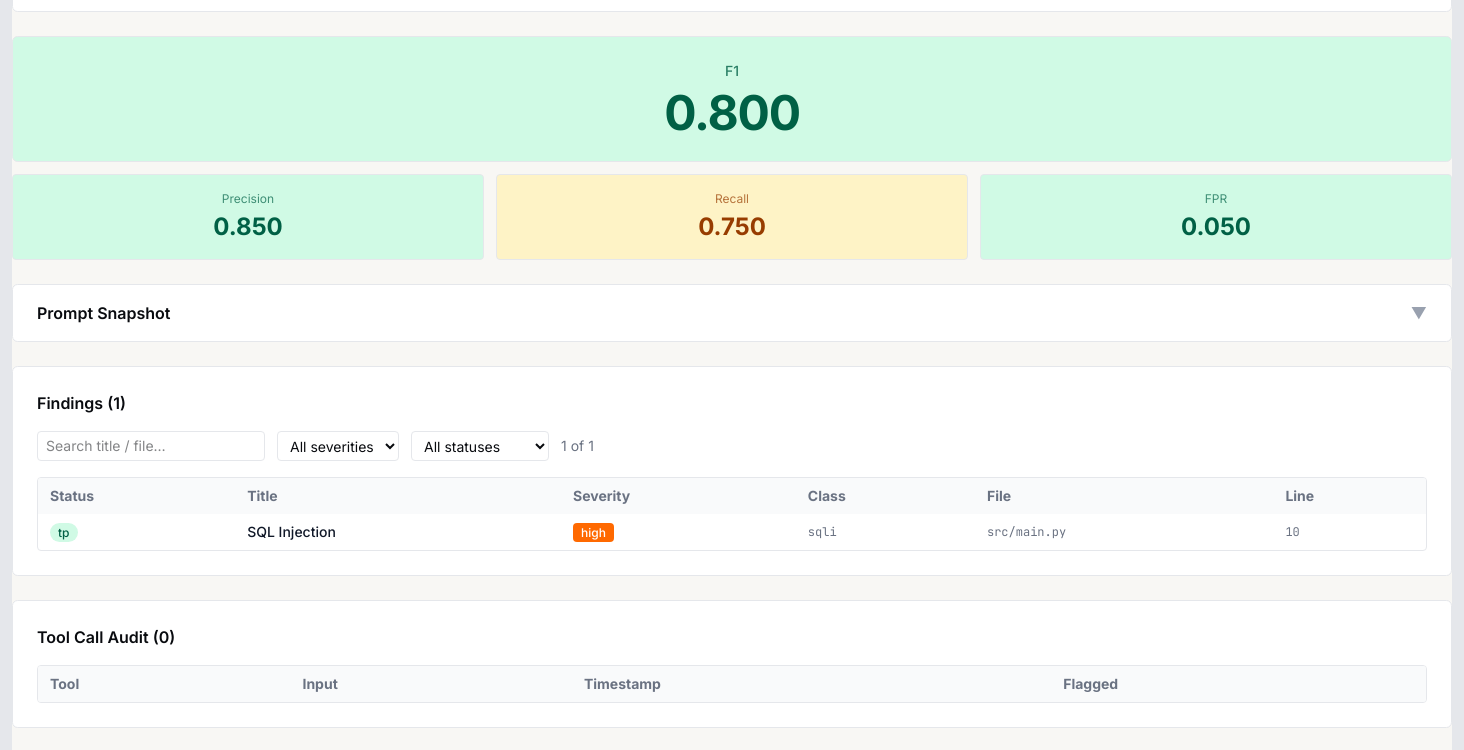
it: RunDetail — findings table › expands finding row to show description on click
(page scrolled)
Click the text "SQL Injection": (292, 532) x1=235 y1=514 x2=561 y2=550
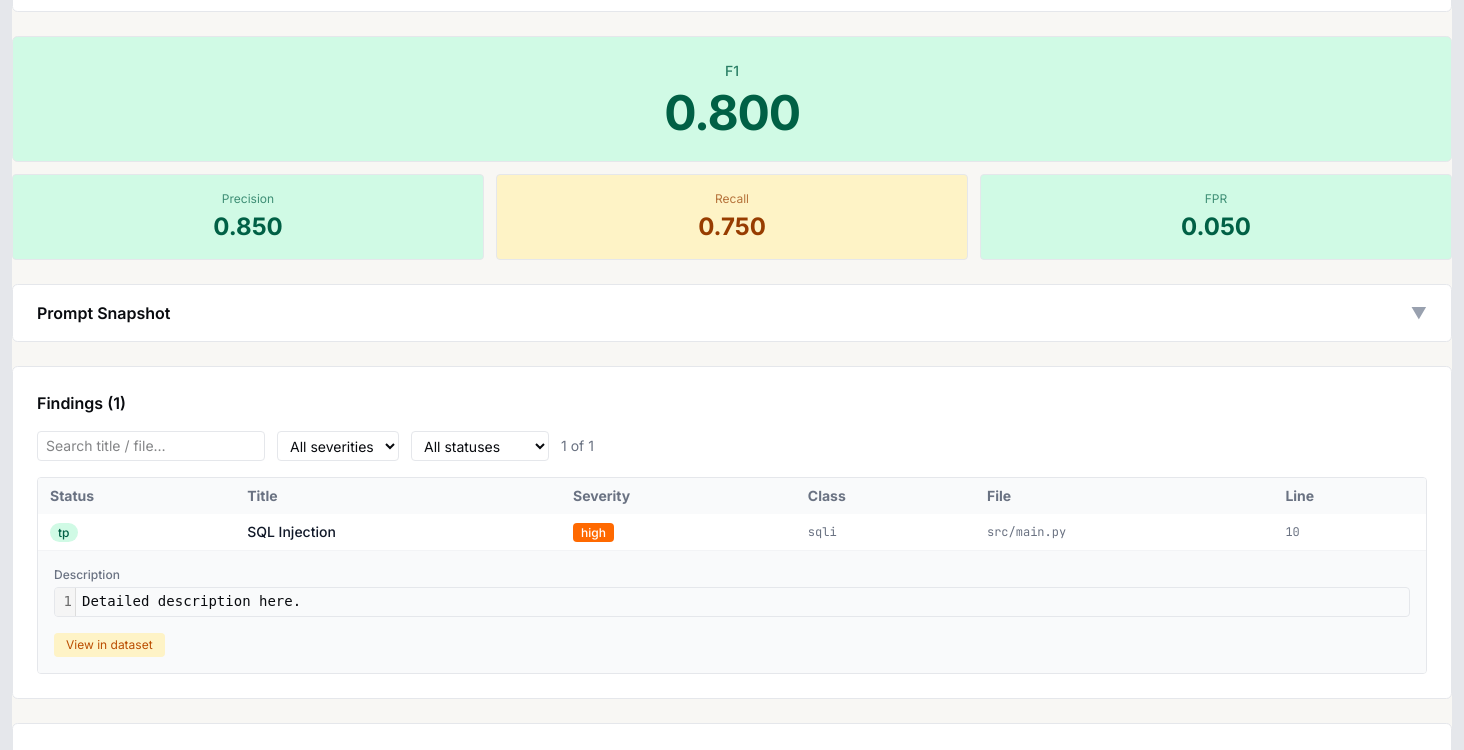
Result: the text "Detailed description here." is shown at x1=82 y1=593 x2=301 y2=609
